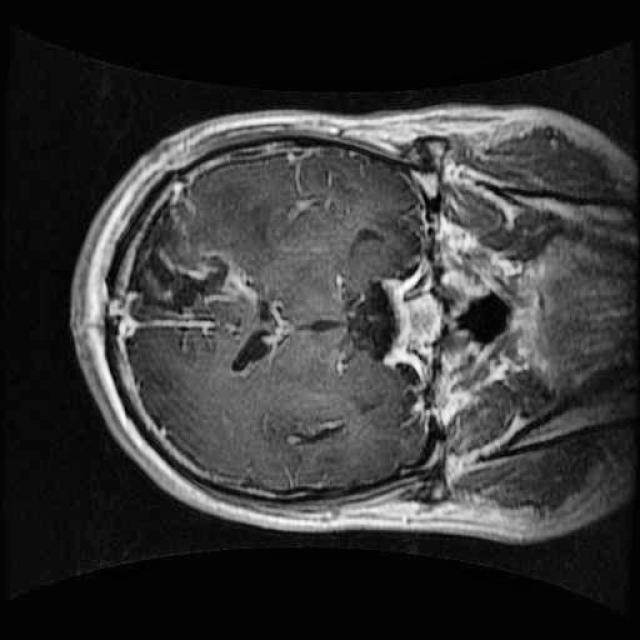Tumor: (102, 170, 252, 340)
